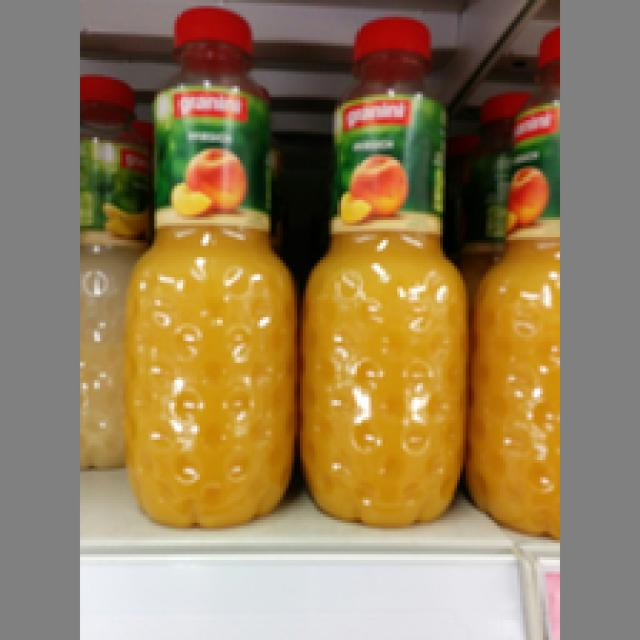groceries: (123, 3, 300, 526), (297, 11, 469, 523)
